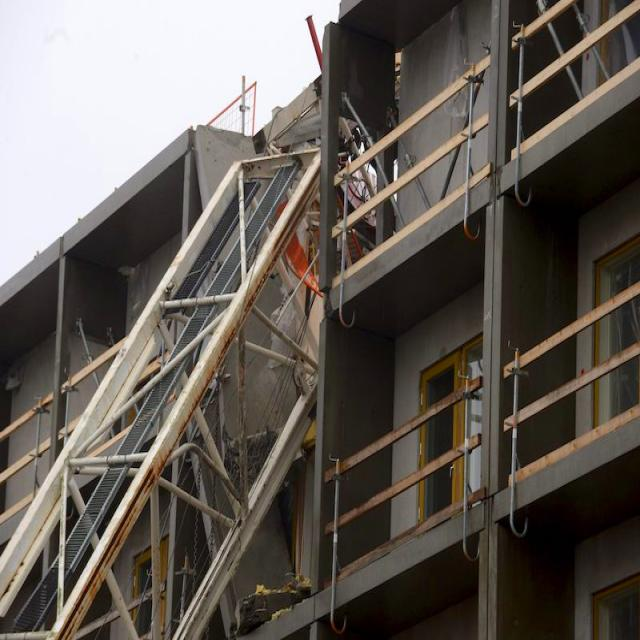Severely_Damaged: (0, 40, 393, 636)
